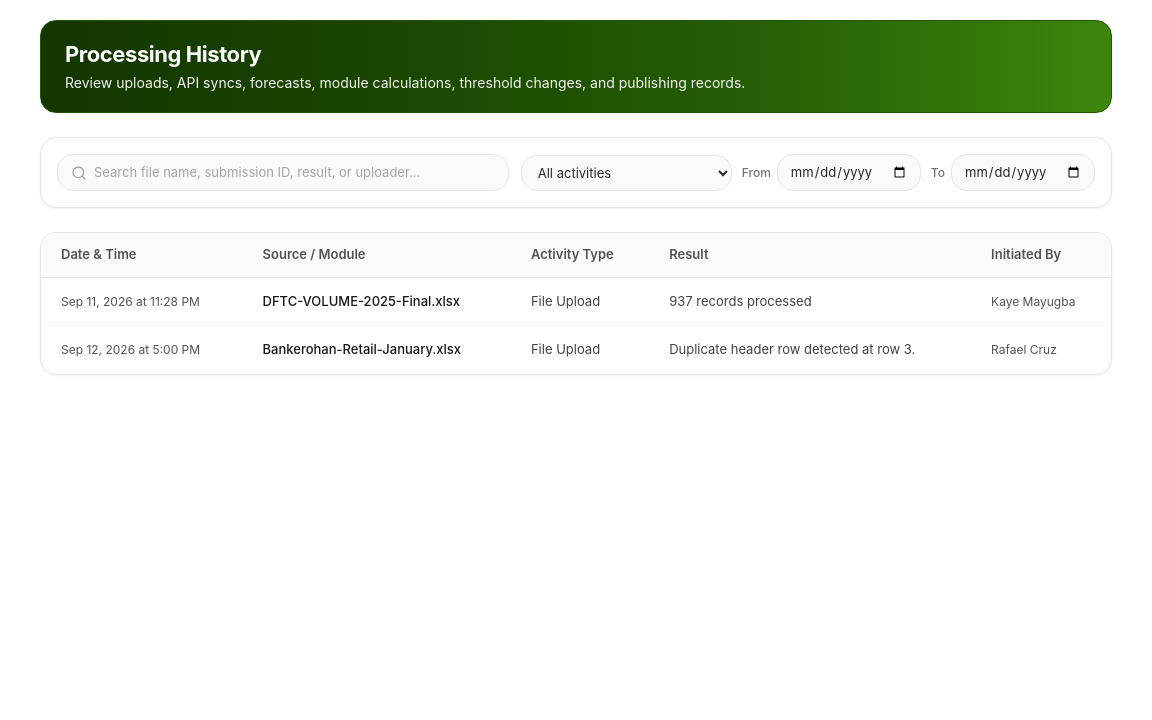
Test: AdminHistory search › replaces the table with the empty state for a term that matches nothing
Type "zzzz-no-such-thing" into the field with placeholder "Search file name, submission ID, result, or uploader...".
click(283, 173); type("zzzz-no-such-thing")  # box [57, 154, 509, 191]
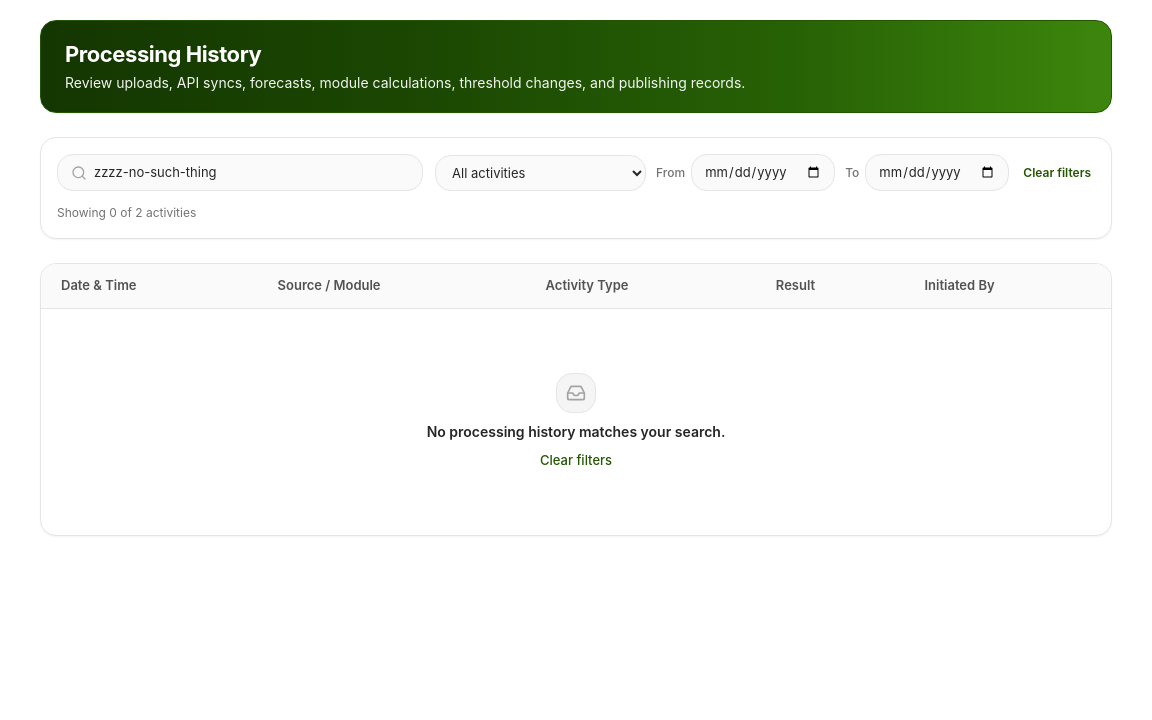
Result: the cell "No processing history matches your search. Clear filters" is shown at [41, 308, 1111, 535]
Result: the text "Showing 0 of 2 activities" is shown at [57, 205, 196, 220]
